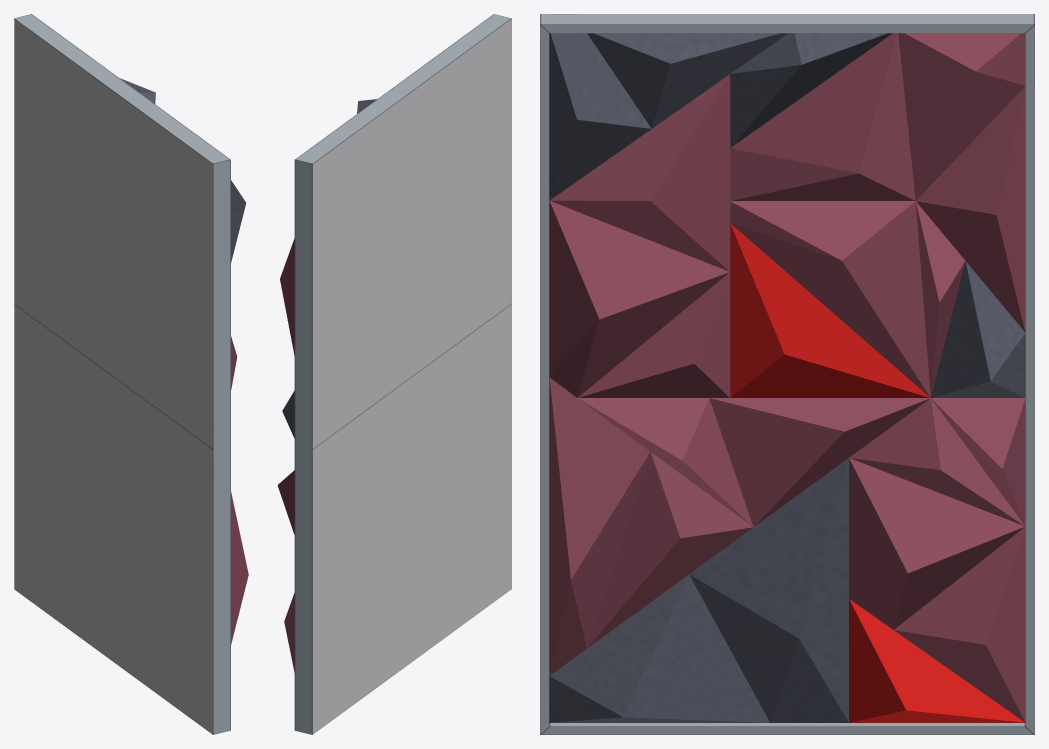
The model's file is Wall_Paint_02.FBX.
The picture shows the model from 3 angles, left to right: view 1: azimuth 30°, elevation 25°; view 2: azimuth 150°, elevation 25°; view 3: azimuth 270°, elevation 25°; orthographic projection. The views are drawn at different scales.
Parts seen in each view (by area): view 1: Wall_Paint_02; view 2: Wall_Paint_02; view 3: Wall_Paint_02.
Part boxes in pixels (bbox=[...]): Wall_Paint_02: bbox=[14, 14, 248, 734]; Wall_Paint_02: bbox=[277, 14, 511, 734]; Wall_Paint_02: bbox=[540, 14, 1034, 734].
Bounding box in the file's own units: 0.2931 × 3.32 × 2.1.
1 material, 1 textured.
